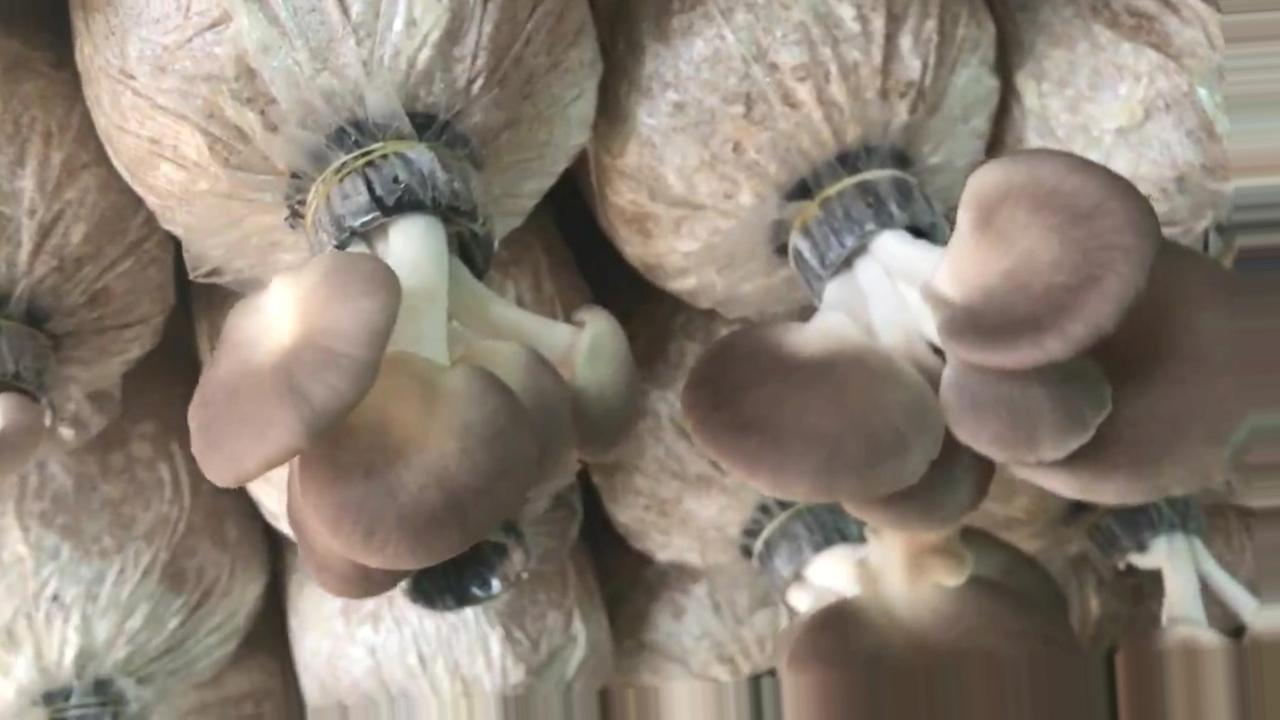nam: (684, 149, 1280, 530), (191, 144, 640, 595), (741, 504, 1090, 719), (1114, 510, 1279, 720), (1, 322, 47, 478)
